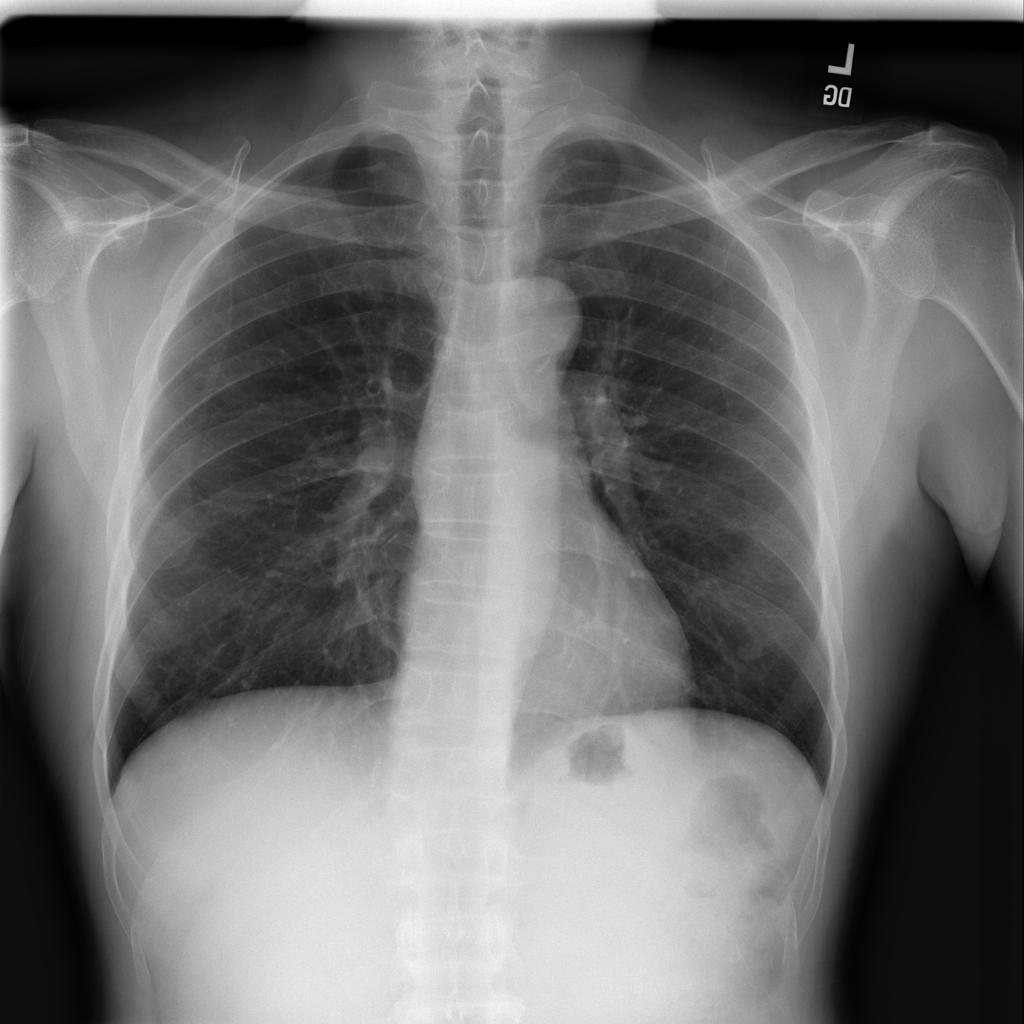nodule: (723, 626, 778, 673)
